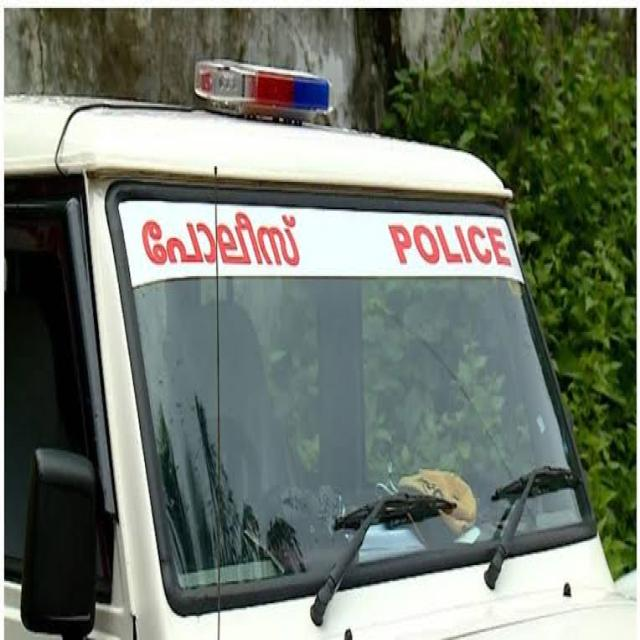Police: (2, 49, 640, 639)
